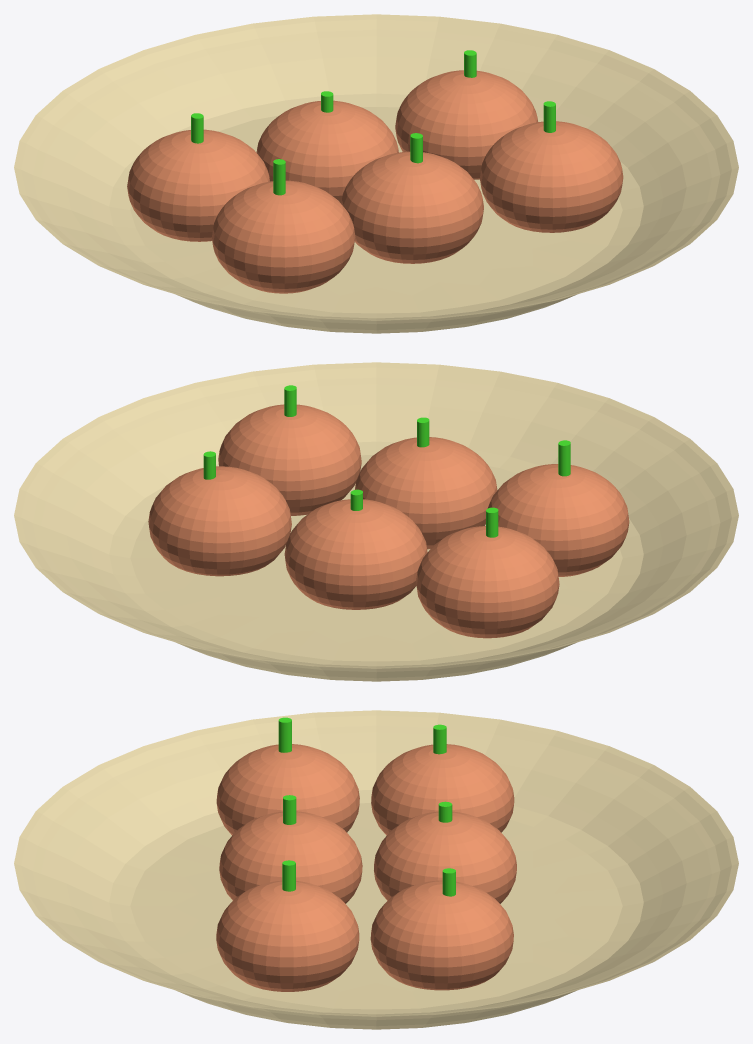
The model's file is kroket kentang.fbx.
3 renders of one model, top to bottom at view 1: azimuth 30°, elevation 25°; view 2: azimuth 150°, elevation 25°; view 3: azimuth 270°, elevation 25°, orthographic.
Parts seen in each view (by area): view 1: Cylinder, Sphere.005, Sphere.003, Sphere.004, Sphere.002, Sphere, Sphere.001; view 2: Cylinder, Sphere.002, Sphere, Sphere.001, Sphere.003, Sphere.005, Sphere.004; view 3: Cylinder, Sphere.003, Sphere, Sphere.001, Sphere.004, Sphere.002, Sphere.005.
Boxes of the visible parts, x1,y1,x2,y2 form: Cylinder: (14, 14, 738, 333); Sphere.005: (211, 180, 355, 293); Sphere.003: (479, 121, 623, 232); Sphere.004: (341, 151, 483, 263); Sphere.002: (127, 129, 269, 241); Sphere: (395, 70, 537, 179); Sphere.001: (256, 100, 398, 203); Cylinder: (14, 362, 738, 681); Sphere.002: (416, 526, 559, 638); Sphere: (148, 466, 291, 576); Sphere.001: (284, 499, 427, 609); Sphere.003: (218, 404, 361, 515); Sphere.005: (487, 464, 629, 576); Sphere.004: (355, 437, 497, 549); Cylinder: (14, 710, 738, 1029); Sphere.003: (216, 880, 359, 991); Sphere: (370, 880, 513, 990); Sphere.001: (374, 811, 516, 903); Sphere.004: (219, 811, 362, 903); Sphere.002: (371, 744, 514, 835); Sphere.005: (216, 744, 359, 835).
Bounding box in the file's own units: 231 × 47.69 × 231.
